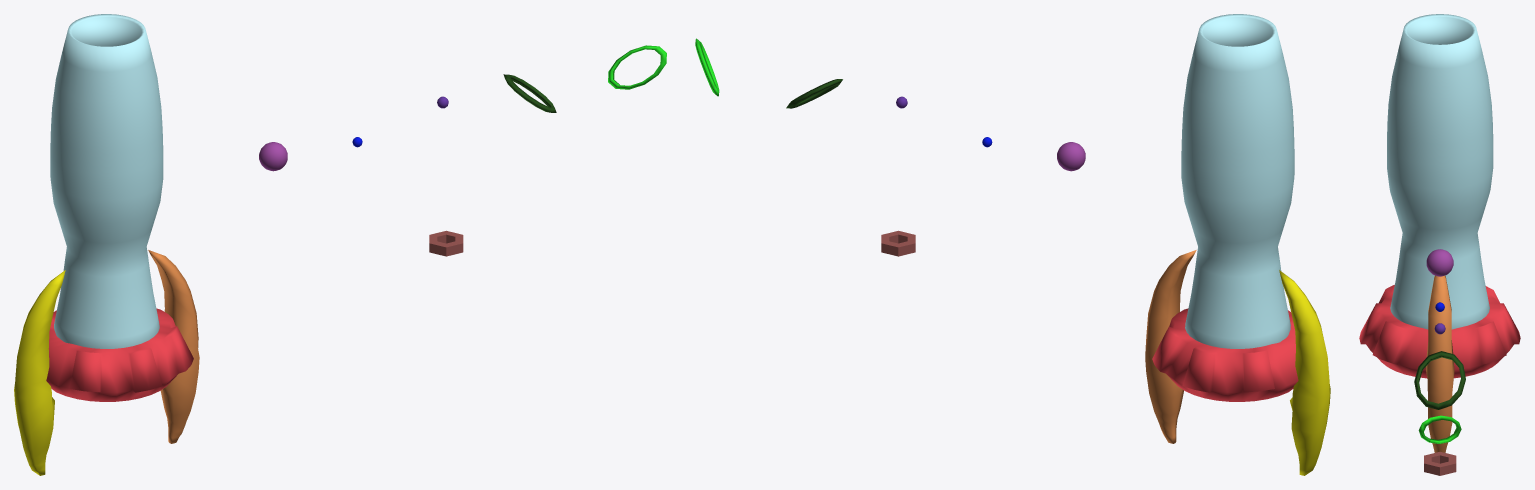
Rendered from FINAL_hardMode_AlienBlender.fbx.
3 renders of one model, left to right at view 1: azimuth 30°, elevation 25°; view 2: azimuth 150°, elevation 25°; view 3: azimuth 270°, elevation 25°, orthographic. The views are drawn at different scales.
Visible parts, largest first — view 1: blenderGlass, base, leftStand, rightStand, nut, atomPiece 5, atomPiece 4, atomPiece; view 2: blenderGlass, base, leftStand, rightStand, nut, atomPiece; view 3: blenderGlass, base, rightStand, atomPiece 4, nut, atomPiece, atomPiece 5.
Boxes of the visible parts, x1=… form: blenderGlass: x1=50, y1=14, x2=163, y2=348; base: x1=46, y1=308, x2=193, y2=401; leftStand: x1=14, y1=270, x2=65, y2=475; rightStand: x1=148, y1=250, x2=199, y2=443; nut: x1=429, y1=230, x2=463, y2=256; atomPiece 5: x1=608, y1=45, x2=666, y2=89; atomPiece 4: x1=503, y1=74, x2=556, y2=112; atomPiece: x1=259, y1=142, x2=287, y2=171; blenderGlass: x1=1181, y1=14, x2=1294, y2=348; base: x1=1152, y1=308, x2=1298, y2=401; leftStand: x1=1279, y1=270, x2=1330, y2=475; rightStand: x1=1145, y1=250, x2=1196, y2=443; nut: x1=881, y1=230, x2=915, y2=256; atomPiece: x1=1057, y1=142, x2=1085, y2=171; blenderGlass: x1=1387, y1=14, x2=1493, y2=329; base: x1=1359, y1=285, x2=1520, y2=378; rightStand: x1=1426, y1=275, x2=1454, y2=452; atomPiece 4: x1=1414, y1=351, x2=1465, y2=409; nut: x1=1424, y1=451, x2=1456, y2=475; atomPiece: x1=1426, y1=249, x2=1453, y2=276; atomPiece 5: x1=1418, y1=415, x2=1461, y2=443.
Size of the model in its own units: 568 by 362 by 131.
